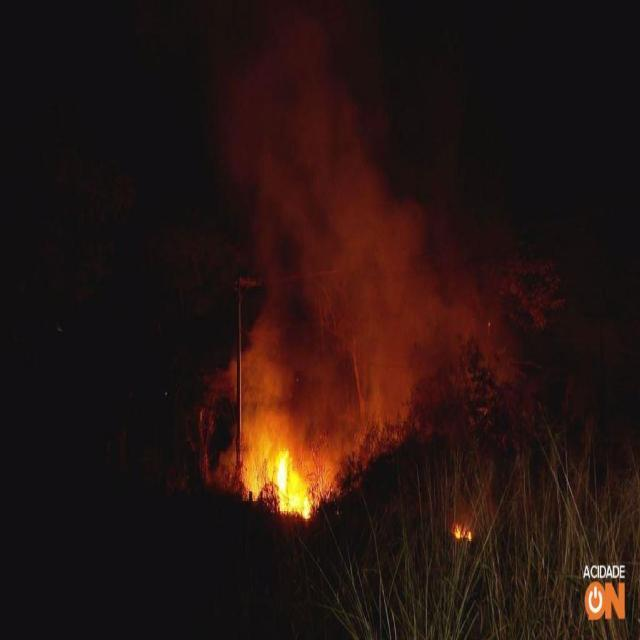Fire: (276, 448, 314, 519), (452, 523, 474, 539)
